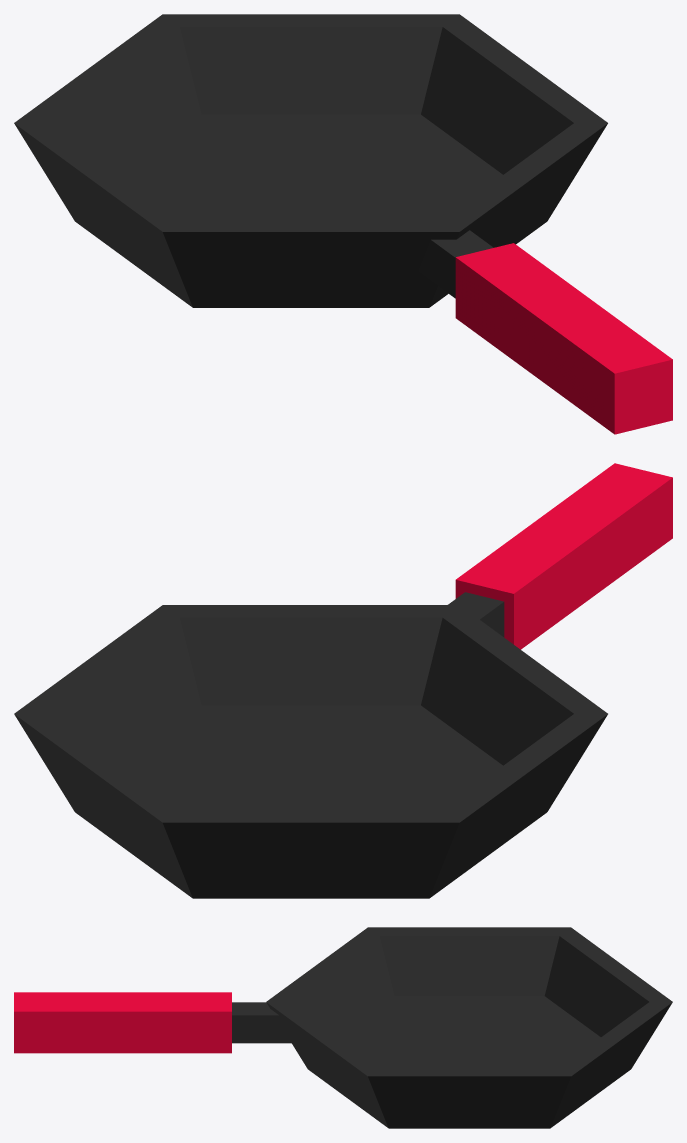
File: roastingPan1_PLY.fbx
3 views of the same model, one above another, from view 1: azimuth 30°, elevation 25°; view 2: azimuth 150°, elevation 25°; view 3: azimuth 270°, elevation 25° (orthographic). The views are drawn at different scales.
Visible parts, largest first — view 1: roastingPan1_PLY; view 2: roastingPan1_PLY; view 3: roastingPan1_PLY.
Part boxes in pixels (bbox=[...]): roastingPan1_PLY: bbox=[14, 14, 672, 434]; roastingPan1_PLY: bbox=[14, 463, 672, 898]; roastingPan1_PLY: bbox=[14, 927, 672, 1128].
Size of the model in its own units: 1.21 by 0.2558 by 2.27.
